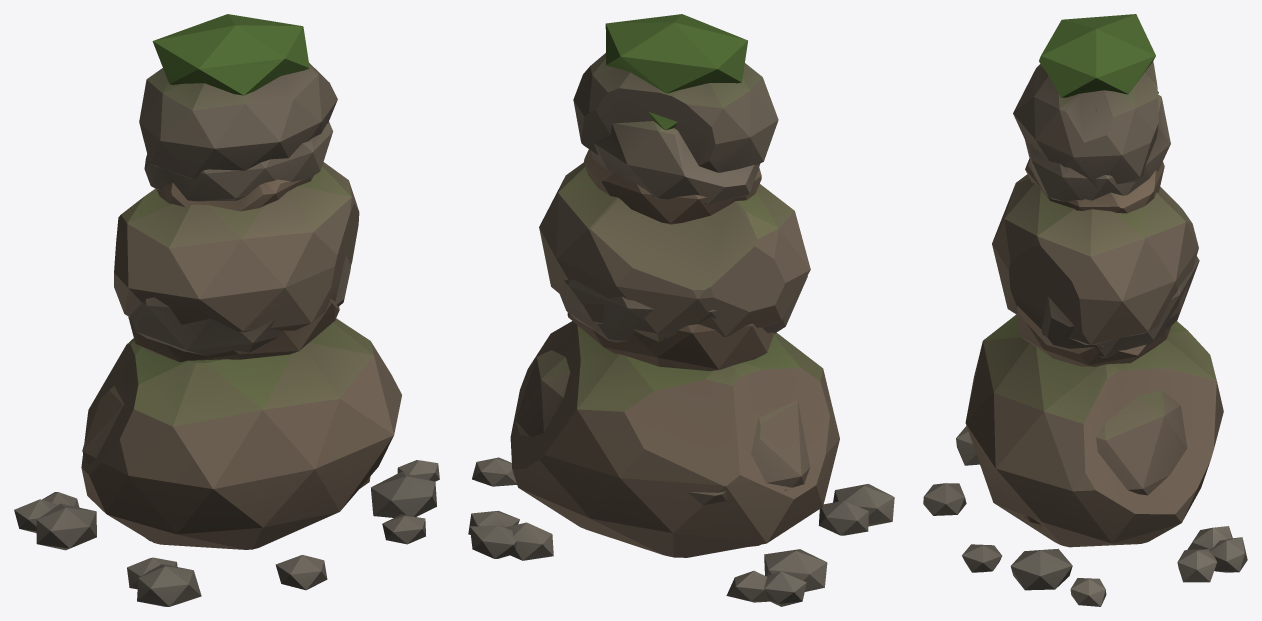
The model's file is cairn.glb.
3 views of the same model, side by side, from view 1: azimuth 30°, elevation 25°; view 2: azimuth 150°, elevation 25°; view 3: azimuth 270°, elevation 25° (orthographic). The views are drawn at different scales.
Parts seen in each view (by area): view 1: cairn-2, cairn-1, cairn-0; view 2: cairn-2, cairn-1, cairn-0; view 3: cairn-2, cairn-1, cairn-0.
Boxes of the visible parts, left/top/right/bottom form: cairn-2: left=14, top=14, right=439, bottom=606; cairn-1: left=42, top=122, right=425, bottom=590; cairn-0: left=36, top=175, right=436, bottom=589; cairn-2: left=470, top=14, right=894, bottom=606; cairn-1: left=468, top=112, right=810, bottom=602; cairn-0: left=505, top=149, right=868, bottom=591; cairn-2: left=956, top=14, right=1247, bottom=606; cairn-1: left=923, top=91, right=1216, bottom=582; cairn-0: left=1010, top=158, right=1232, bottom=590.
Size of the model in its own units: 1.3 by 1.69 by 1.
